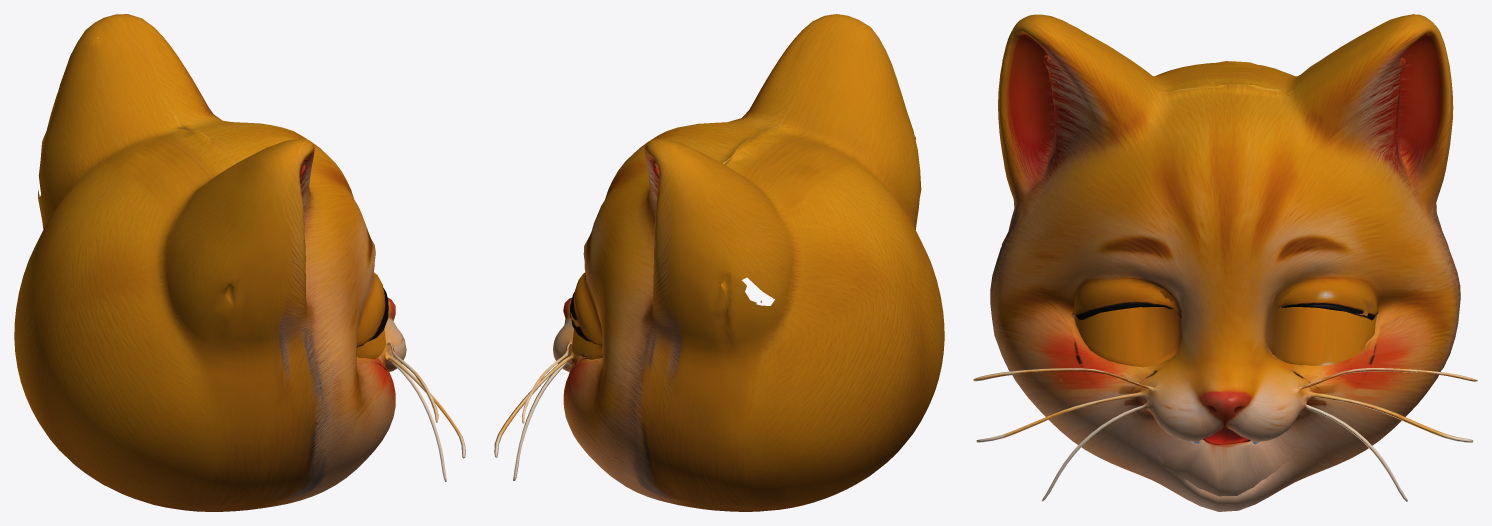
File: gato.glb
3 renders of one model, left to right at view 1: azimuth 30°, elevation 25°; view 2: azimuth 150°, elevation 25°; view 3: azimuth 270°, elevation 25°, orthographic. The views are drawn at different scales.
Visible parts, largest first — view 1: original, copia; view 2: copia, original; view 3: copia, original.
Boxes of the visible parts, left/top/right/bottom form: original: left=14, top=19, right=465, bottom=481; copia: left=14, top=14, right=464, bottom=511; copia: left=495, top=14, right=943, bottom=511; original: left=494, top=16, right=944, bottom=480; copia: left=973, top=14, right=1477, bottom=511; original: left=973, top=14, right=1476, bottom=501.
Bounding box in the file's own units: 84.88 × 94.31 × 97.96.
1 material, 1 textured.
